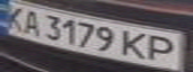1: (57, 16, 78, 46)
3: (39, 12, 63, 42)
7: (75, 19, 96, 49)
9: (93, 24, 121, 54)
A: (18, 7, 45, 37)
K: (118, 28, 154, 61), (0, 2, 30, 32)
P: (142, 33, 184, 64)
